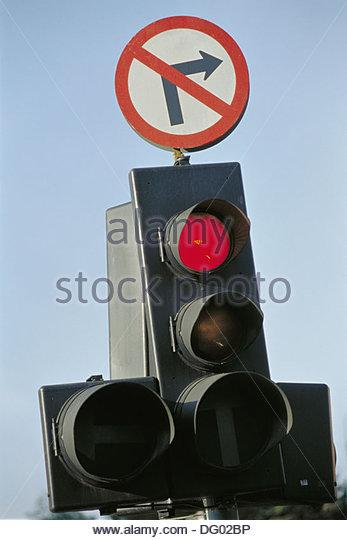no_right_turn: (114, 15, 249, 149)
